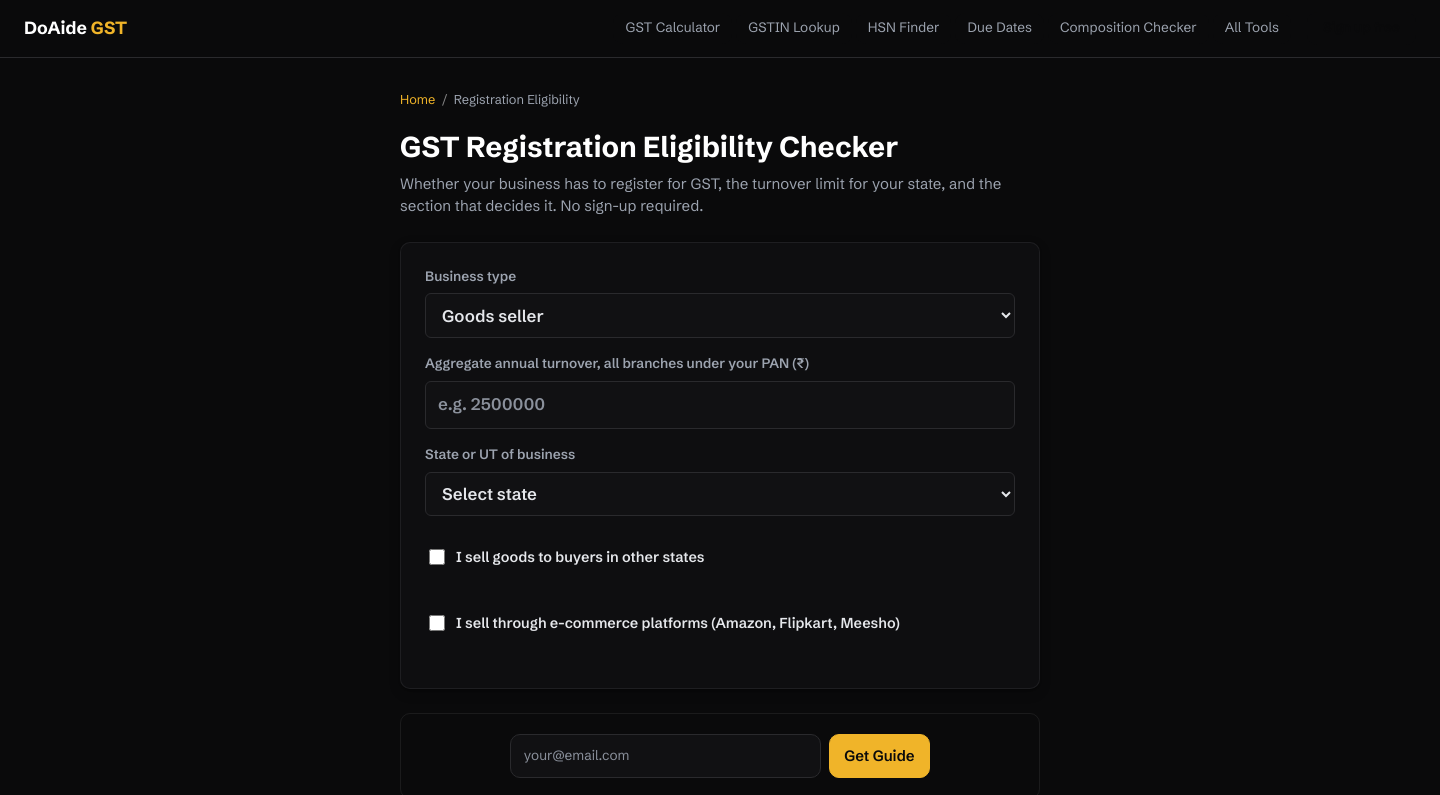
it: RegistrationCheckerPage › holds a Himachal Pradesh goods seller at ₹40 lakh, not ₹20 lakh
This screenshot has width=1440, height=795.
Select "Himachal Pradesh" in the dropdown labelled "State or UT of business" at x=720, y=494, box [425,472,1015,516]
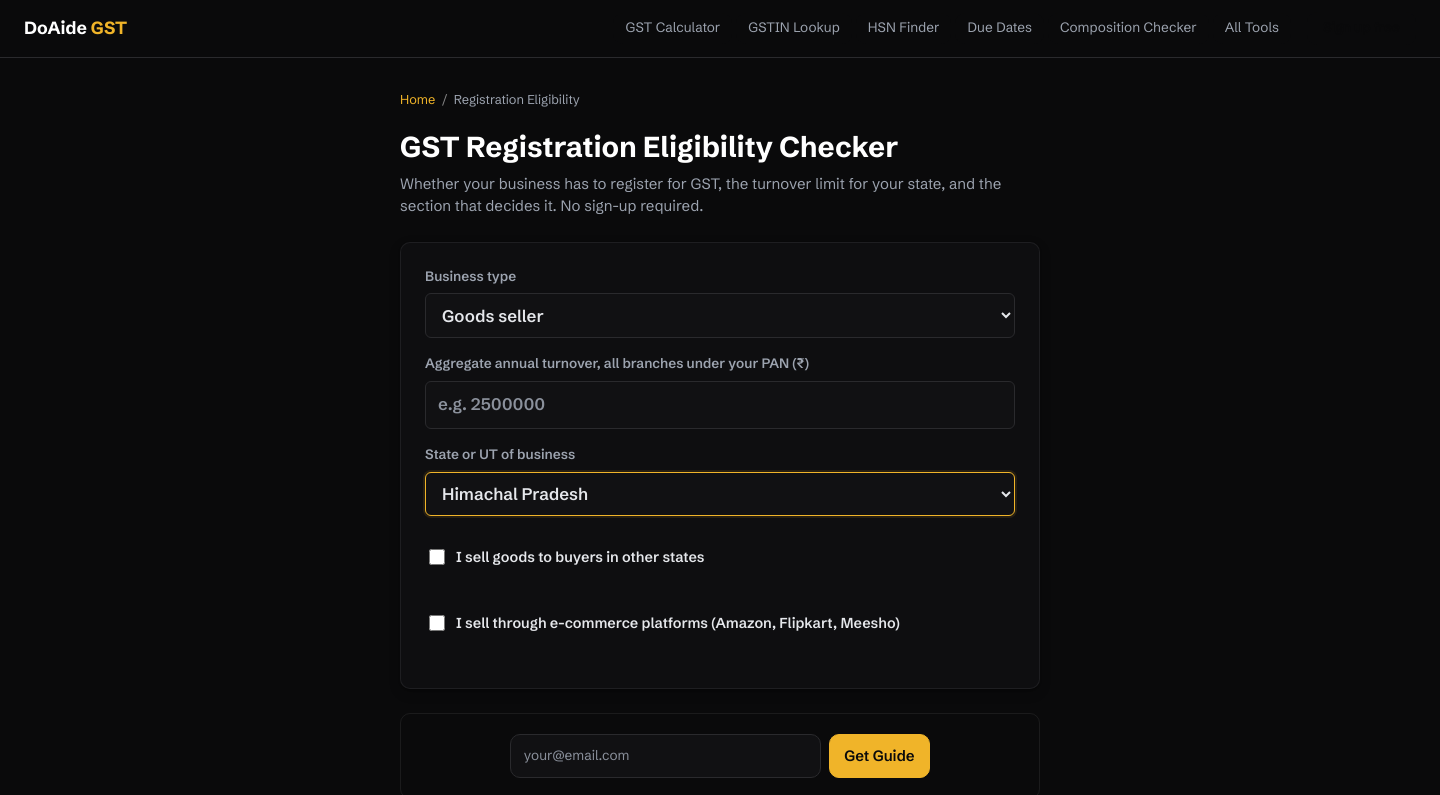
Type "3000000" into the number field labelled "Aggregate annual turnover, all branches under your PAN (₹)" at x=720, y=405, box [425,381,1015,429]
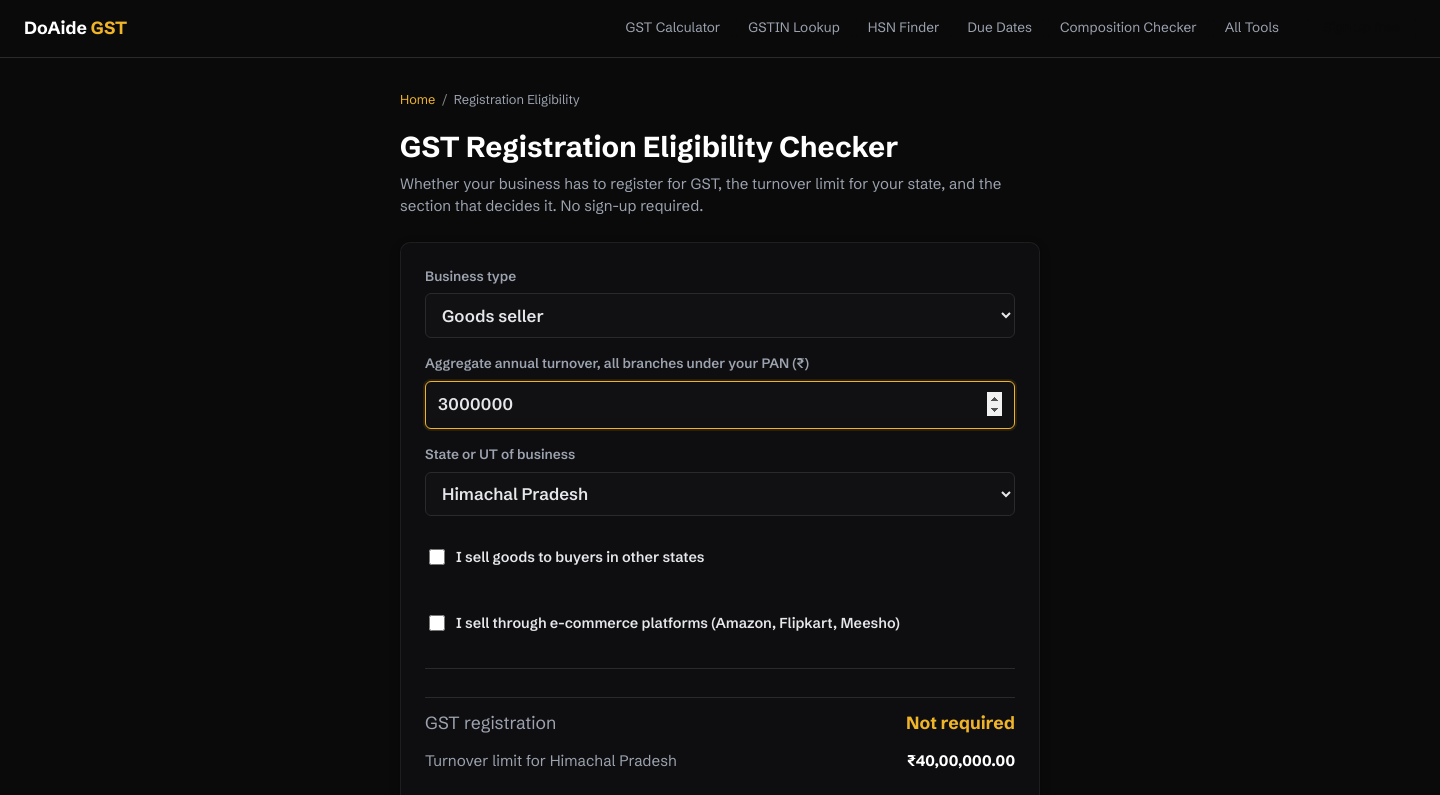
Check: the text "GST registration" shows "Not required", box [906,712,1015,734]
Check: the text "Turnover limit for Himachal Pradesh" shows "40,00,000", box [907,751,1015,770]
